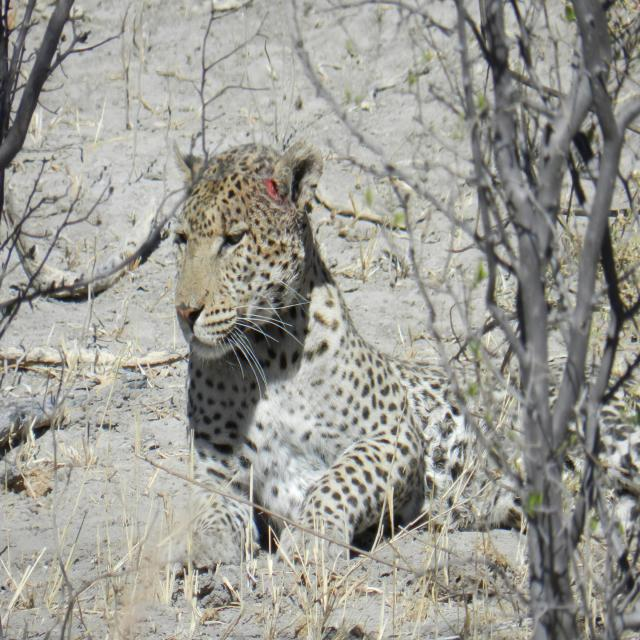Leopard: (147, 137, 594, 593)
